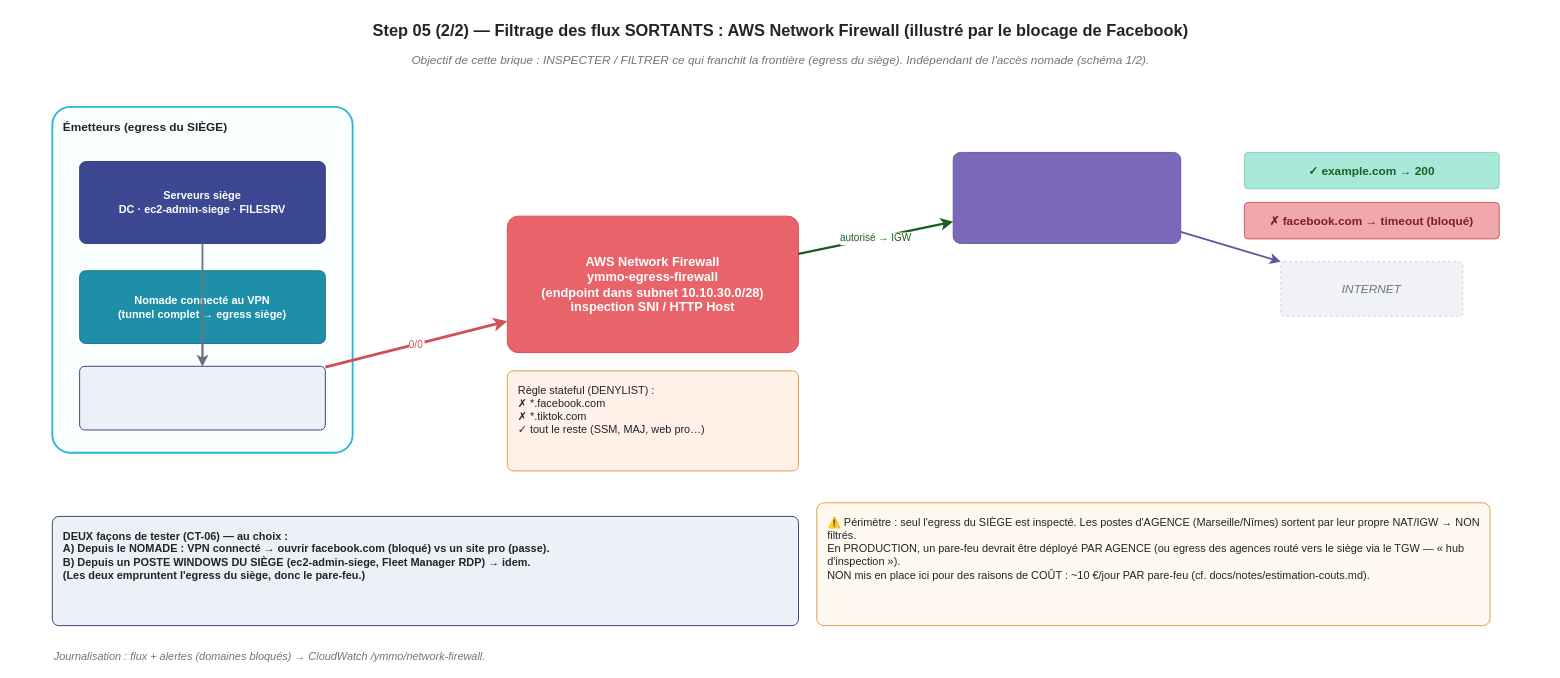
Some shapes in this 1560 by 678 pixel diagram are drawn without their labels. Each missing label, with the centre of its shape:
IGW (subnet pare-feu : 0/0 → IGW ; edge : public/25 → pare-feu, retour stateful): pixel 1066 197
NAT GW / subnet public route 0/0 → endpoint pare-feu: pixel 202 397
